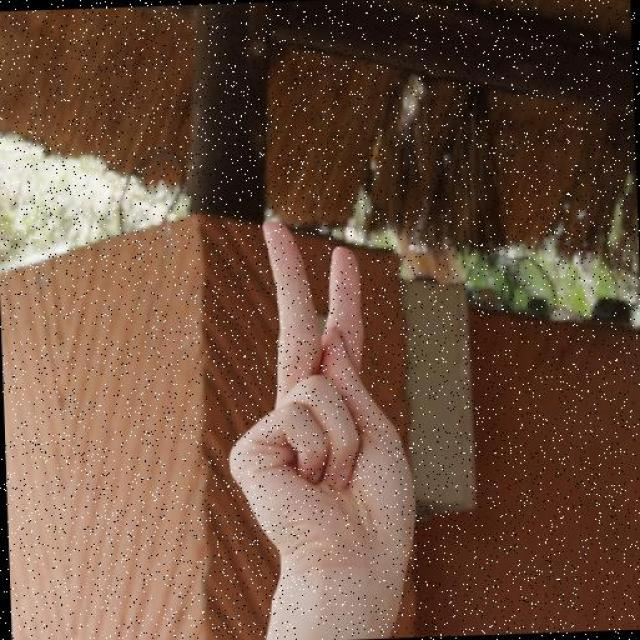K: (172, 185, 478, 620)
